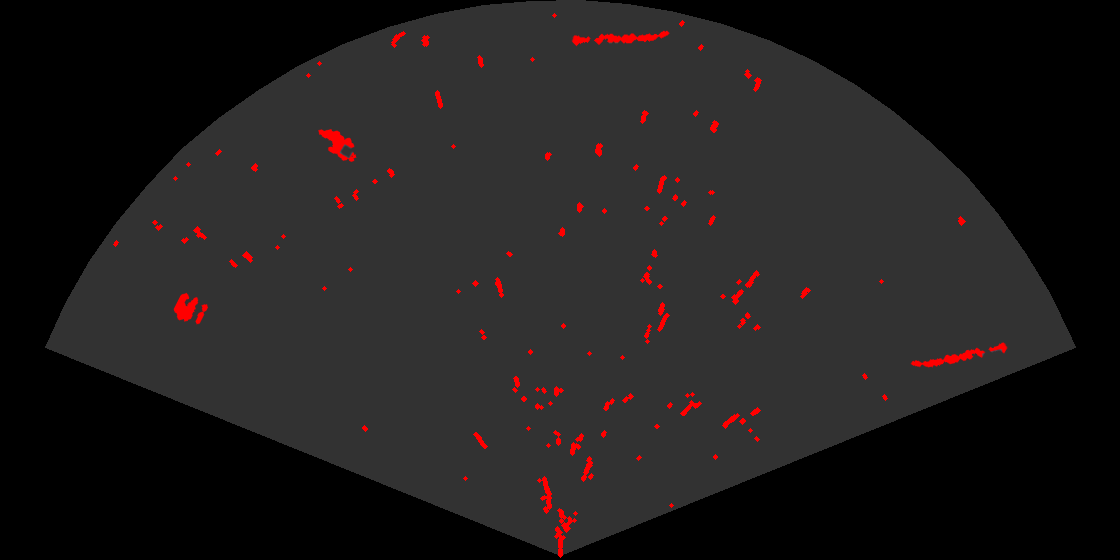AUV: (317, 127, 358, 164)
ball: (172, 291, 210, 326)
chain: (909, 341, 1010, 369), (571, 29, 671, 48)
